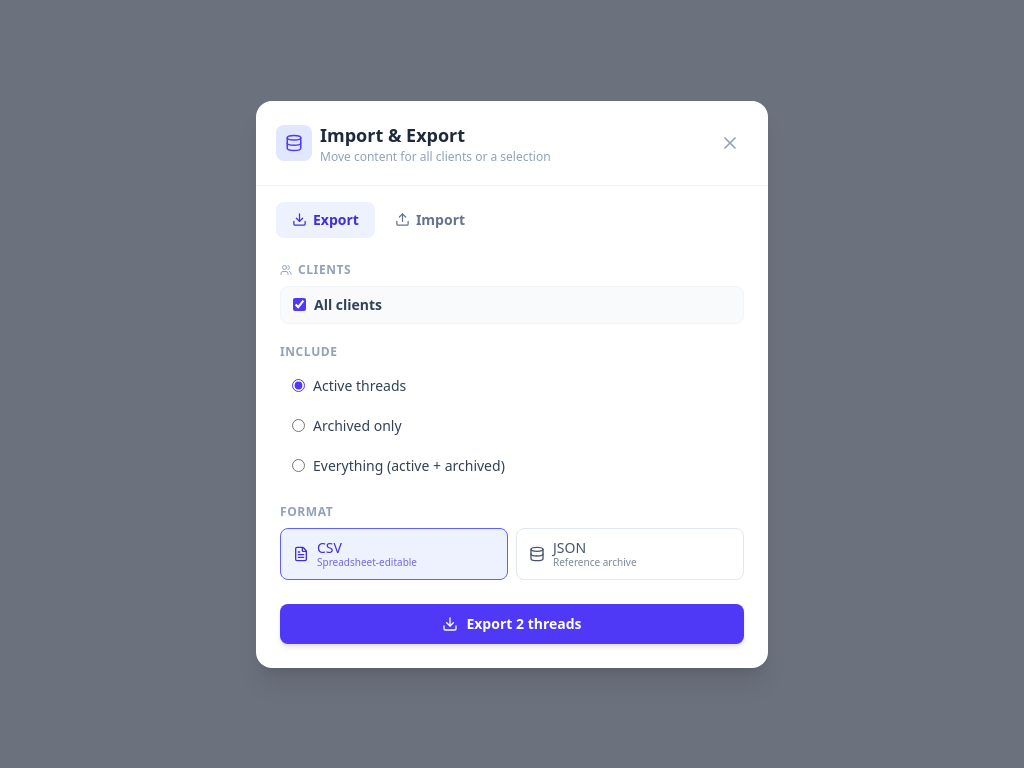
ImportExportModal — export scope › operator: "Everything" scope includes archived
Click the radio button labelled "Everything (active + archived)": (298, 466) [292,459,305,472]
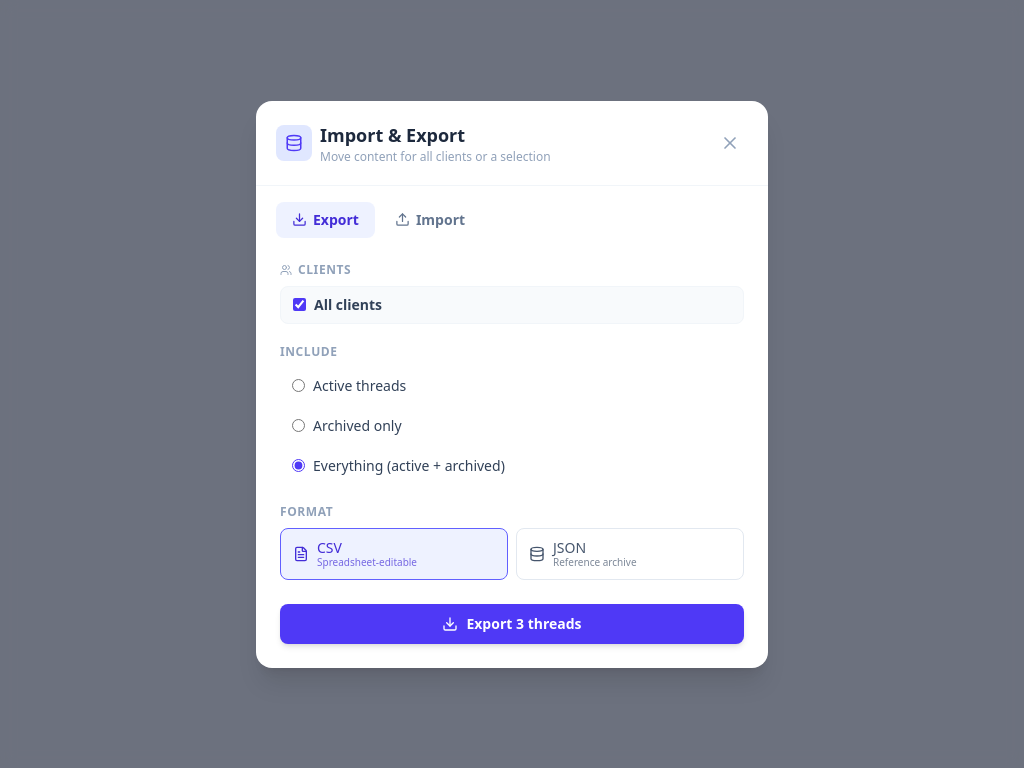
Now the button "Export 3 threads" is shown, box [280,604,744,644]
